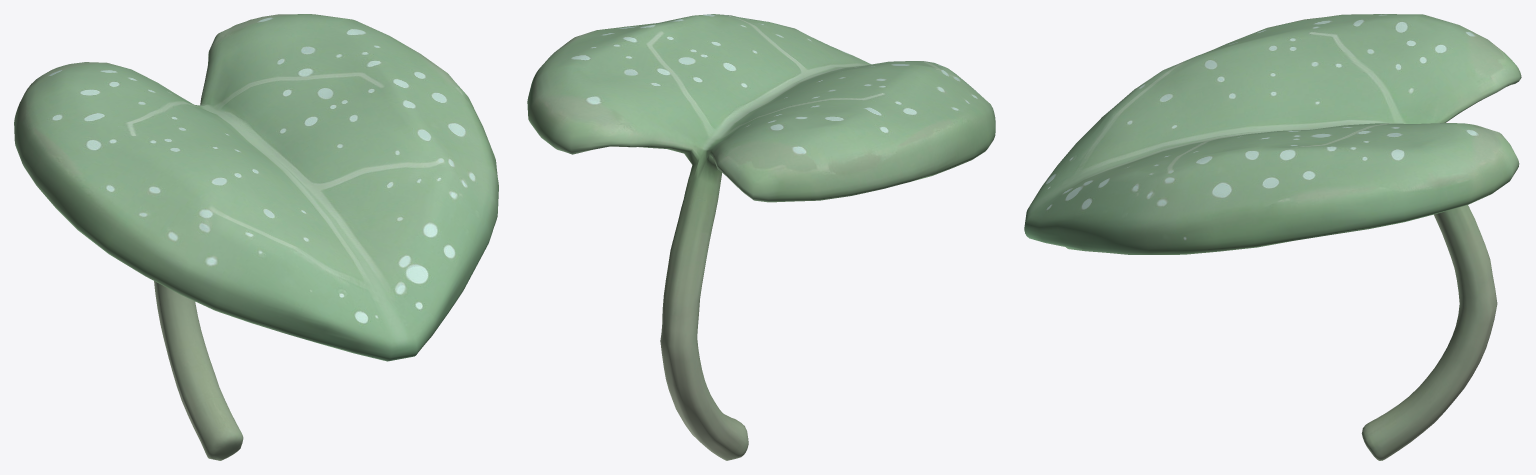
The model's file is pothos_mint_dot_v2.glb.
3 renders of one model, left to right at view 1: azimuth 30°, elevation 25°; view 2: azimuth 150°, elevation 25°; view 3: azimuth 270°, elevation 25°, orthographic. The views are drawn at different scales.
Parts seen in each view (by area): view 1: world; view 2: world; view 3: world.
Part boxes in pixels (x1,y1,x2,y2): world: [14, 14, 498, 460]; world: [527, 14, 995, 460]; world: [1024, 14, 1521, 460].
Size of the model in its own units: 1.81 by 1.68 by 2.
1 material, 1 textured.
